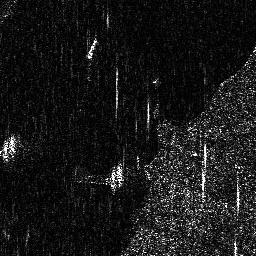ship: (86, 36, 99, 60)
